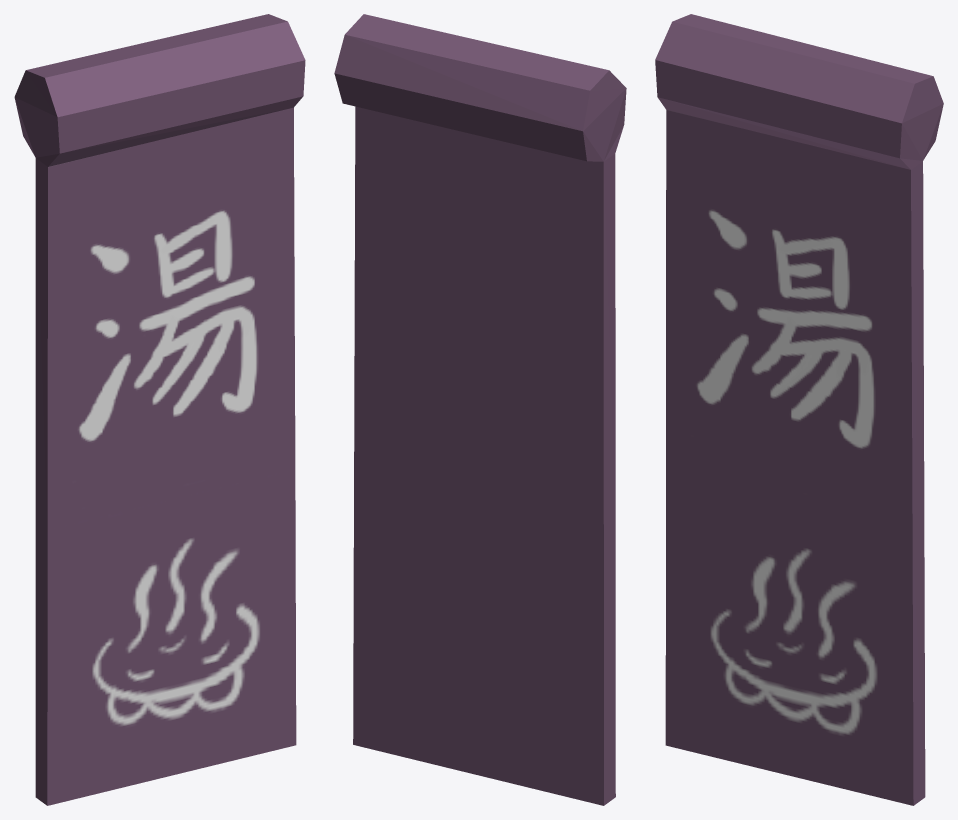
File: MarketStall_Flag_Bath.gltf
The picture shows the model from 3 angles, left to right: view 1: azimuth 30°, elevation 25°; view 2: azimuth 150°, elevation 25°; view 3: azimuth 330°, elevation 25°; orthographic projection.
Parts seen in each view (by area): view 1: MarketStall_Flag_Bath; view 2: MarketStall_Flag_Bath; view 3: MarketStall_Flag_Bath.
Boxes of the visible parts, box(x1,y1,x2,y2) form: MarketStall_Flag_Bath: box(14, 14, 305, 805); MarketStall_Flag_Bath: box(334, 14, 626, 805); MarketStall_Flag_Bath: box(655, 14, 943, 805).
Bounding box in the file's own units: 0.3827 × 1.06 × 0.1149.
Materials: 1 (1 with a texture image).
